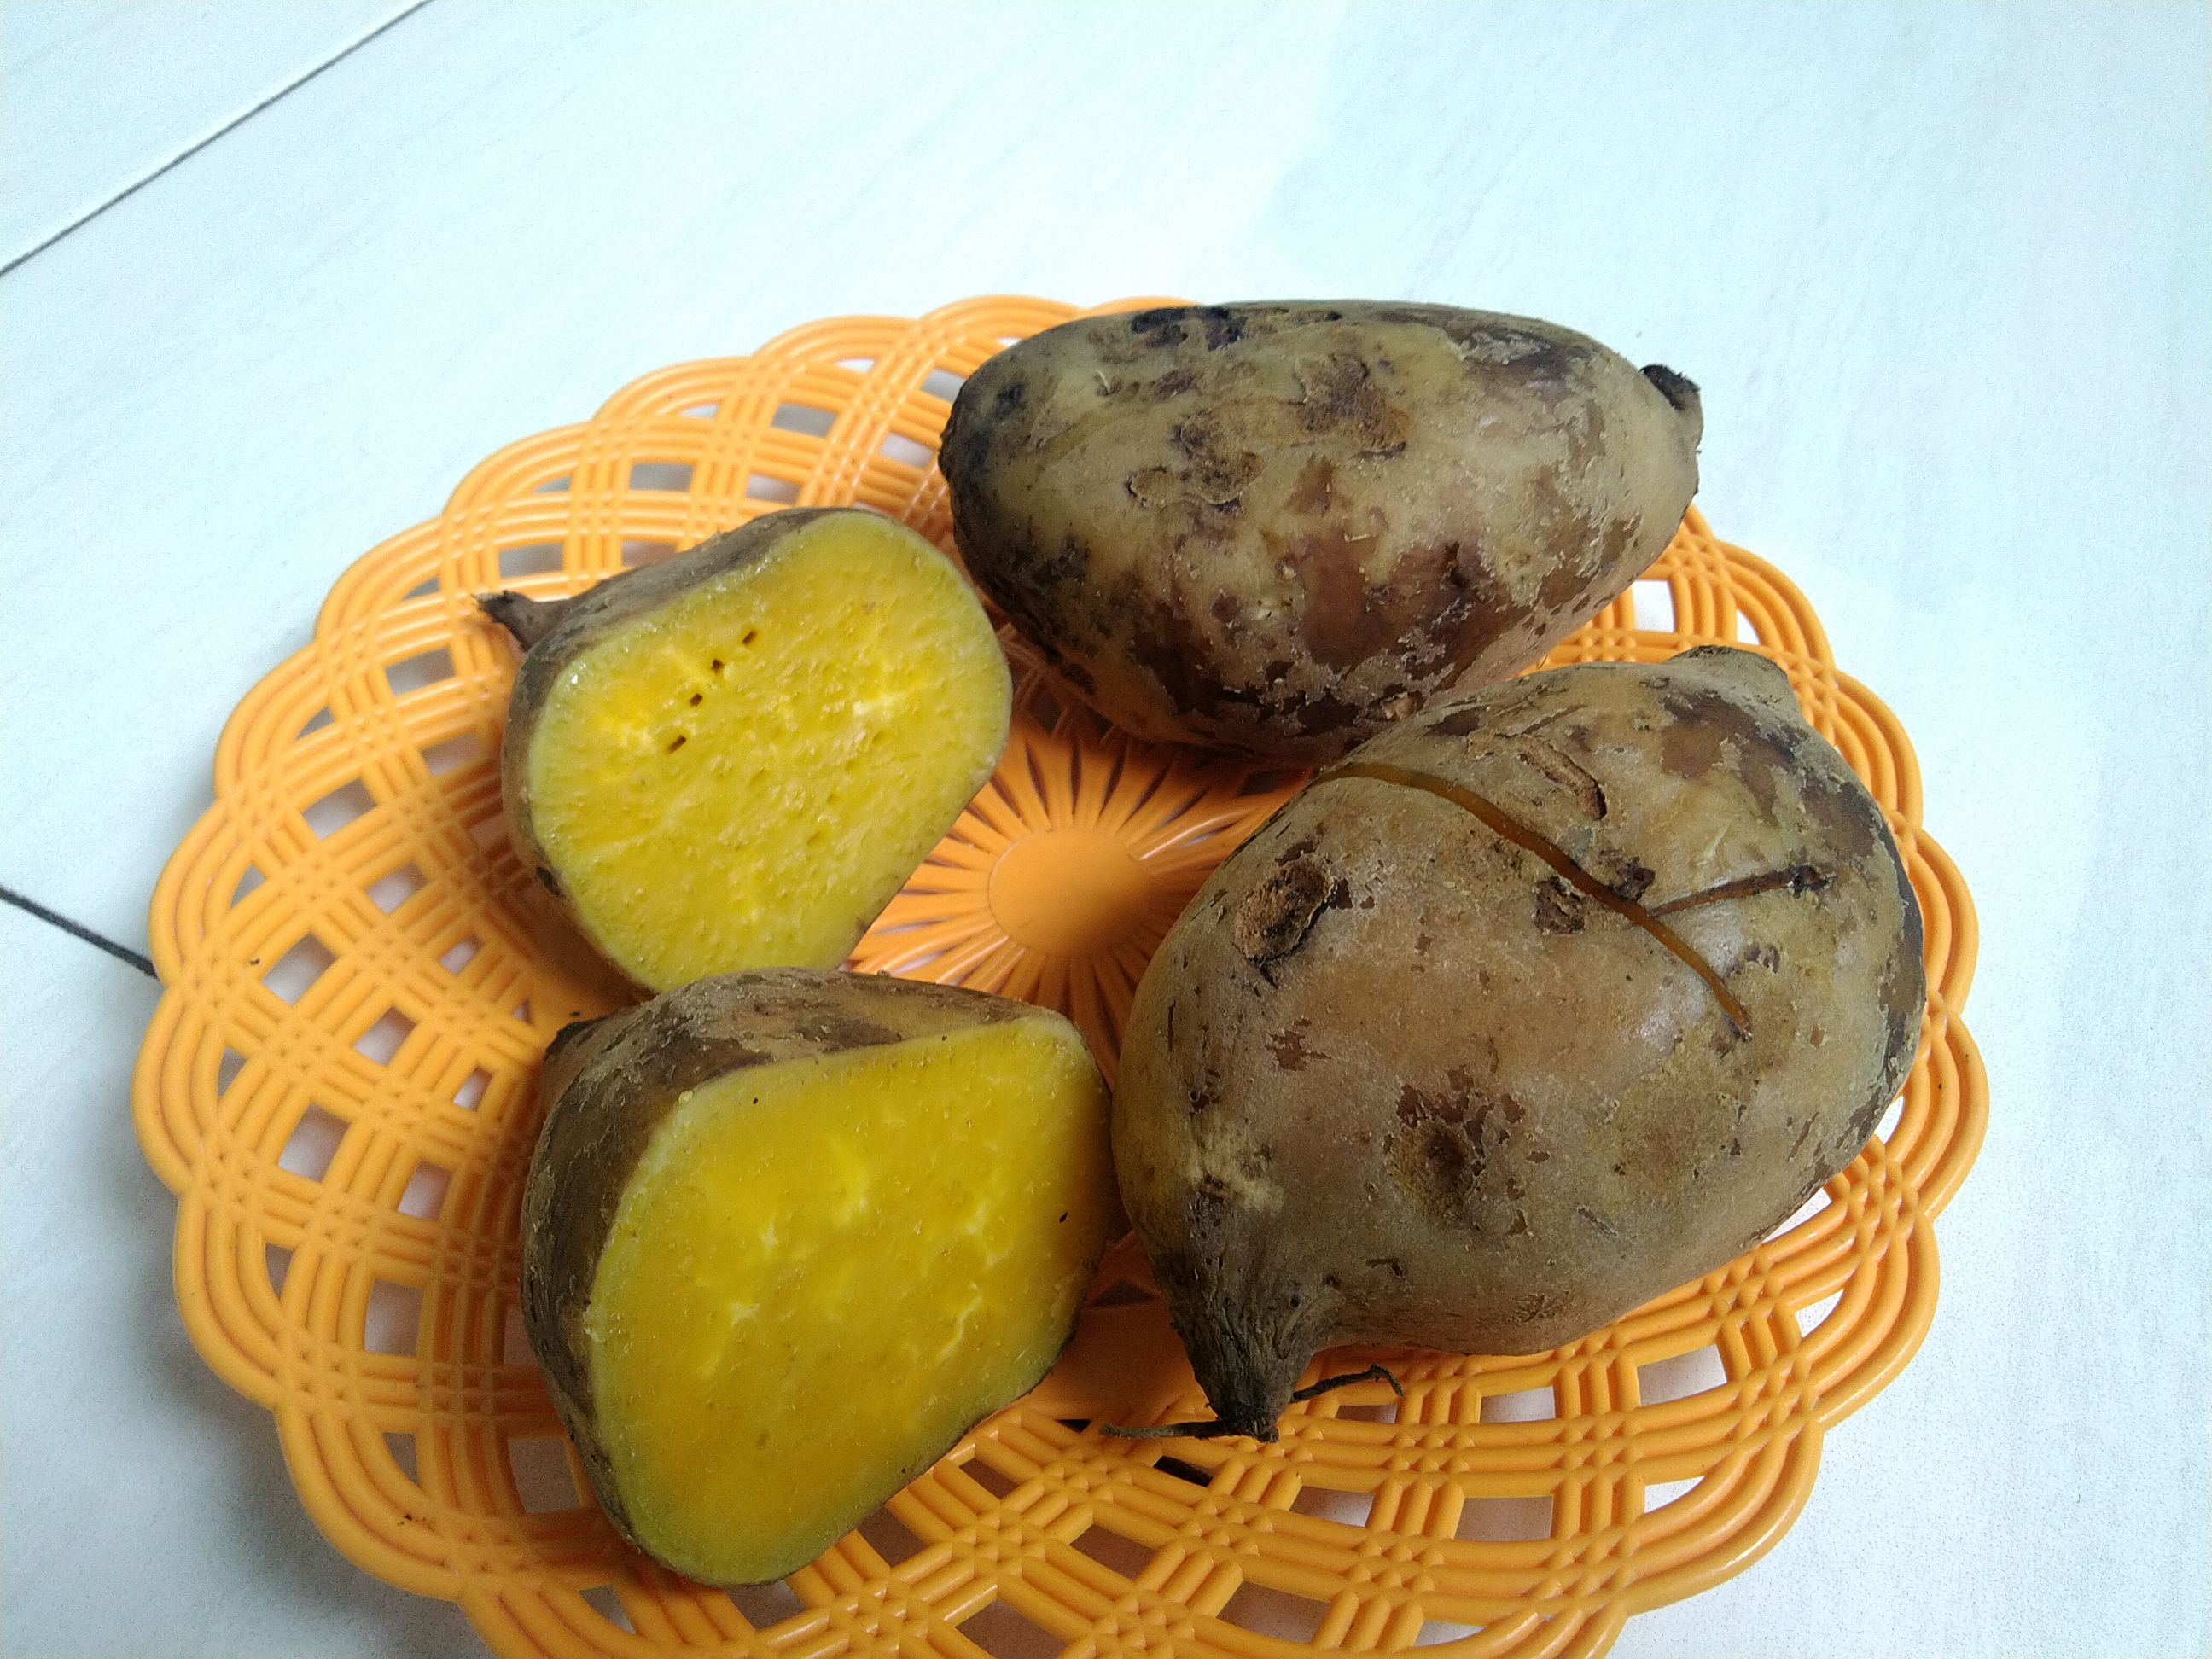ubi kuning: (934, 251, 1946, 1453), (1108, 631, 1912, 1443), (923, 284, 1740, 756), (502, 960, 1146, 1558), (434, 532, 1068, 988)
